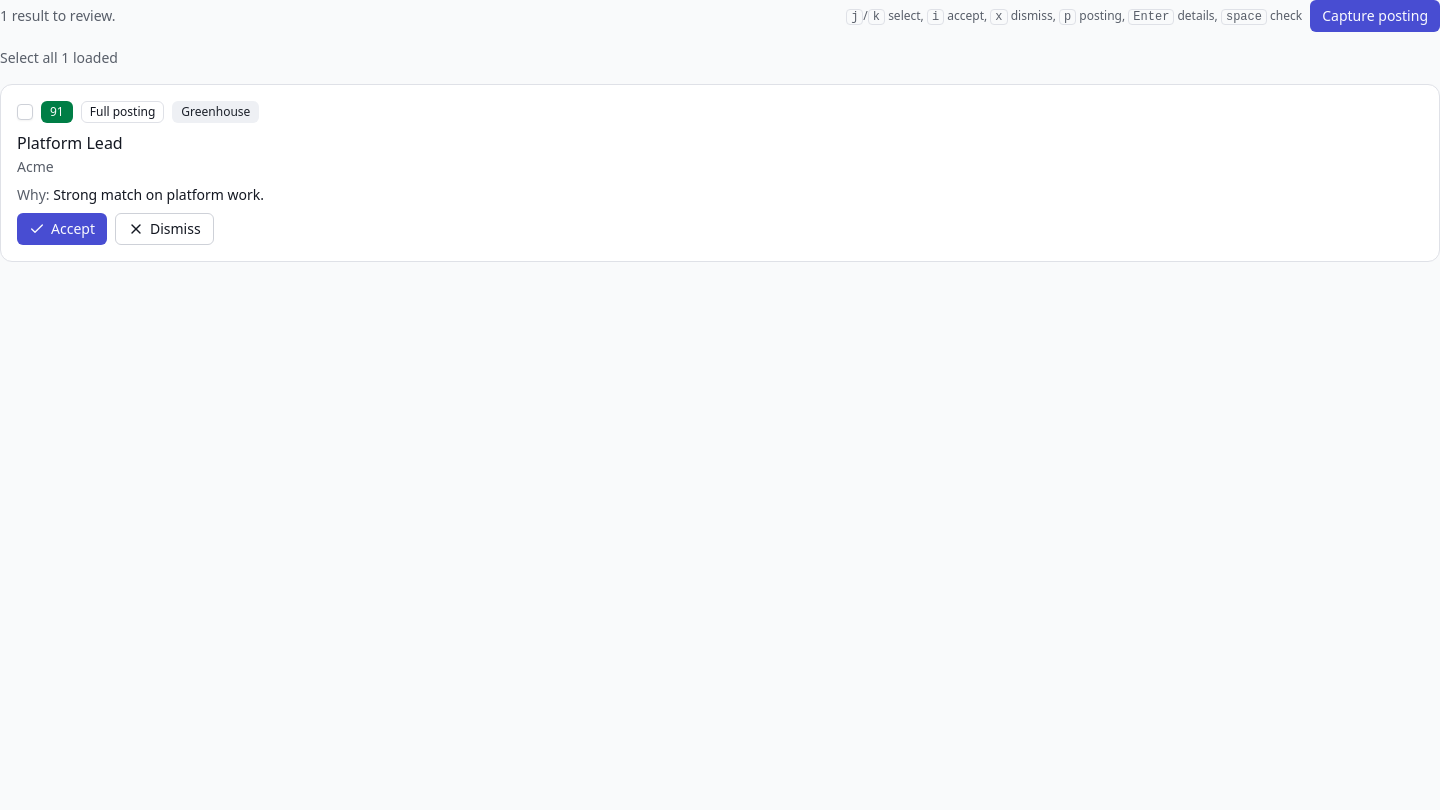
ReviewQueue › a 409 duplicate opens the attach dialog; Attach to existing posts attachTo
expect the button "Platform Lead" is shown: met, box x1=17 y1=131 x2=123 y2=155
Type keys "ji"
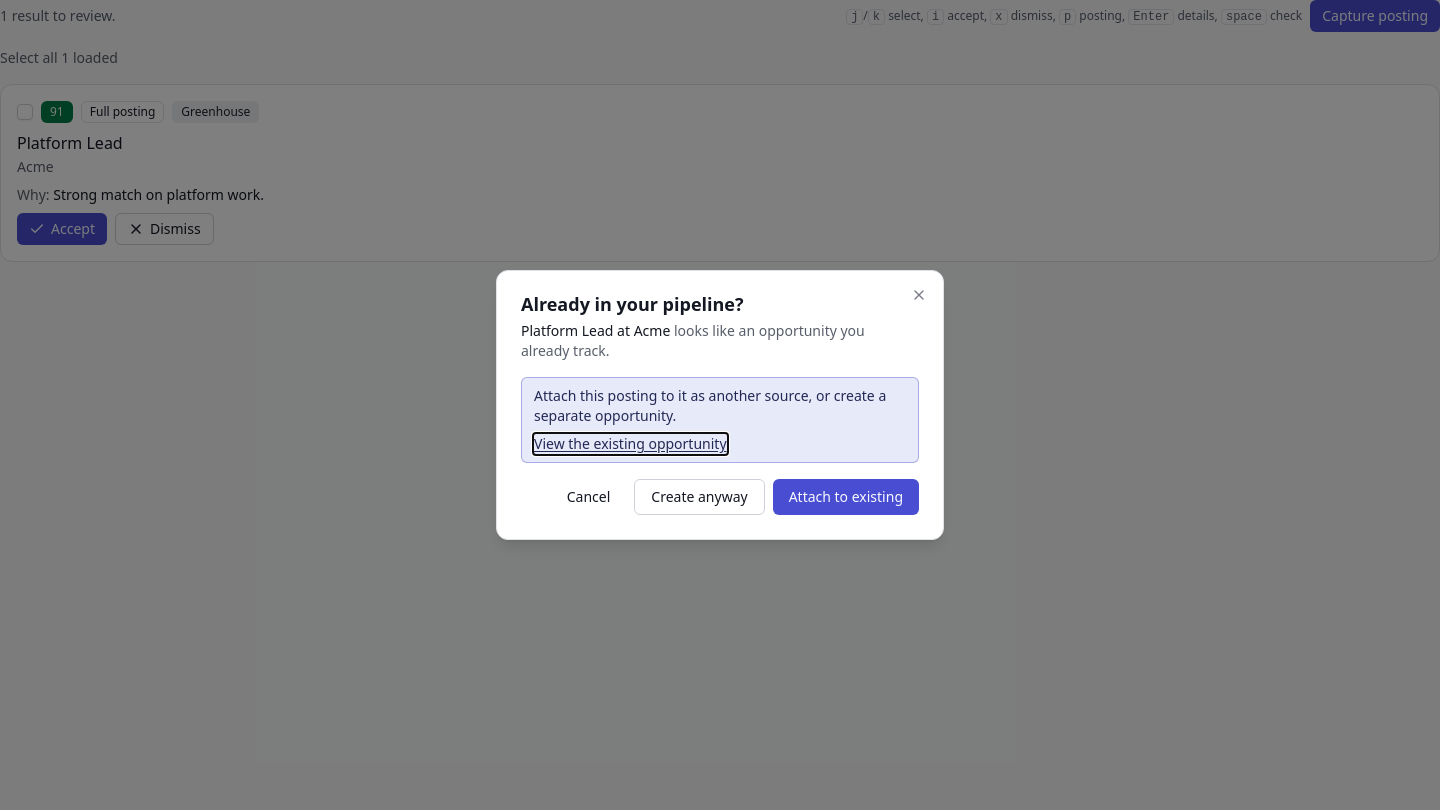
expect the button "Create anyway" is shown: met, box x1=634 y1=479 x2=765 y2=515
Click the button "Attach to existing": (846, 497) x1=773 y1=479 x2=919 y2=515
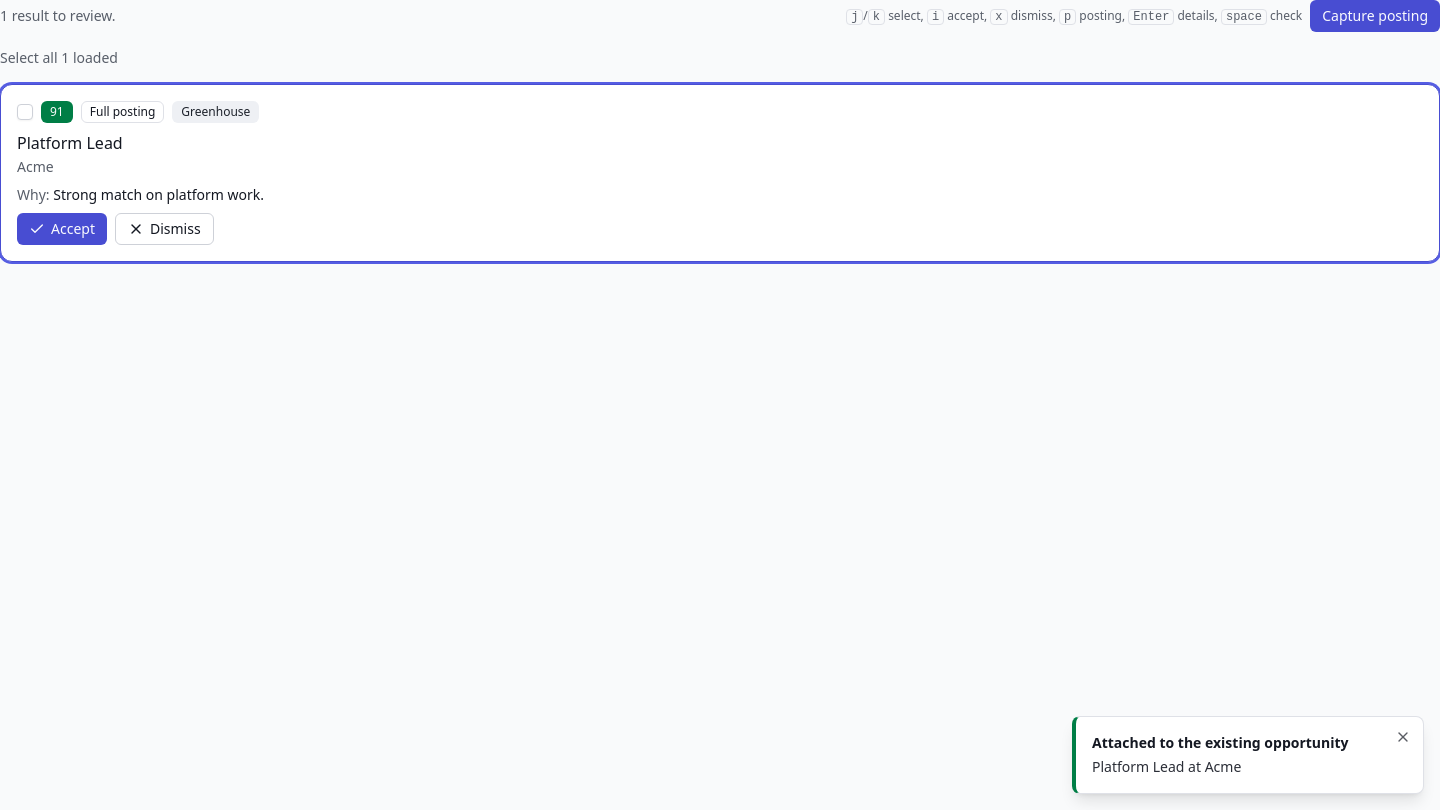
expect the heading "Already in your pipeline?" is gone: met
